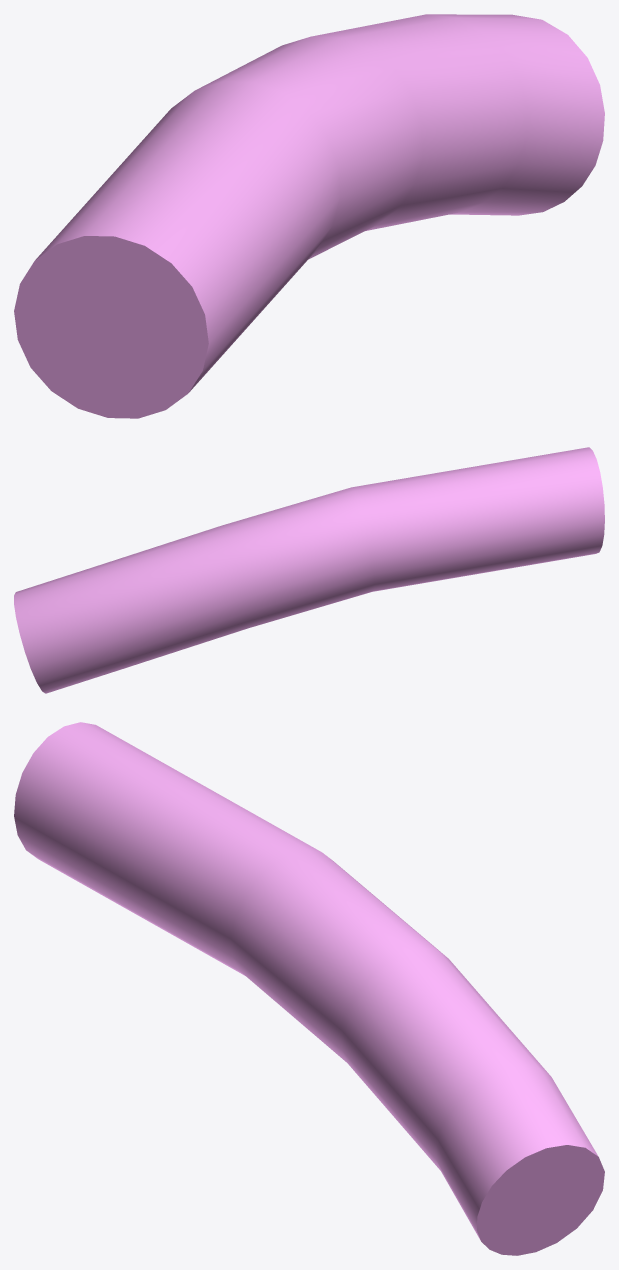
File: lacOperator.glb
3 views of the same model, one above another, from view 1: azimuth 30°, elevation 25°; view 2: azimuth 150°, elevation 25°; view 3: azimuth 270°, elevation 25° (orthographic). The views are drawn at different scales.
Parts seen in each view (by area): view 1: lacOperator; view 2: lacOperator; view 3: lacOperator.
Part boxes in pixels (bbox=[...]): lacOperator: bbox=[14, 14, 604, 418]; lacOperator: bbox=[14, 447, 604, 693]; lacOperator: bbox=[14, 722, 604, 1255].
Size of the model in its own units: 0.4559 by 0.1994 by 0.3842.
